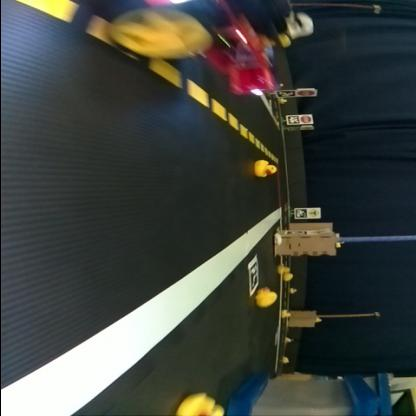Duckie: (178, 392, 224, 414), (256, 286, 276, 306), (256, 160, 276, 176), (283, 273, 293, 281), (278, 266, 290, 272), (288, 286, 296, 292), (284, 336, 292, 342), (282, 356, 290, 362), (280, 98, 288, 104), (283, 310, 290, 316)
Duckiebot: (108, 2, 280, 96)
Intersection sign: (308, 208, 320, 217)
QR code: (247, 254, 259, 295), (276, 90, 294, 96), (287, 115, 299, 124), (296, 208, 306, 218)
Stop sign: (297, 90, 315, 96), (300, 114, 312, 122)
